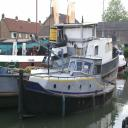tugboat: (17, 53, 117, 123)
